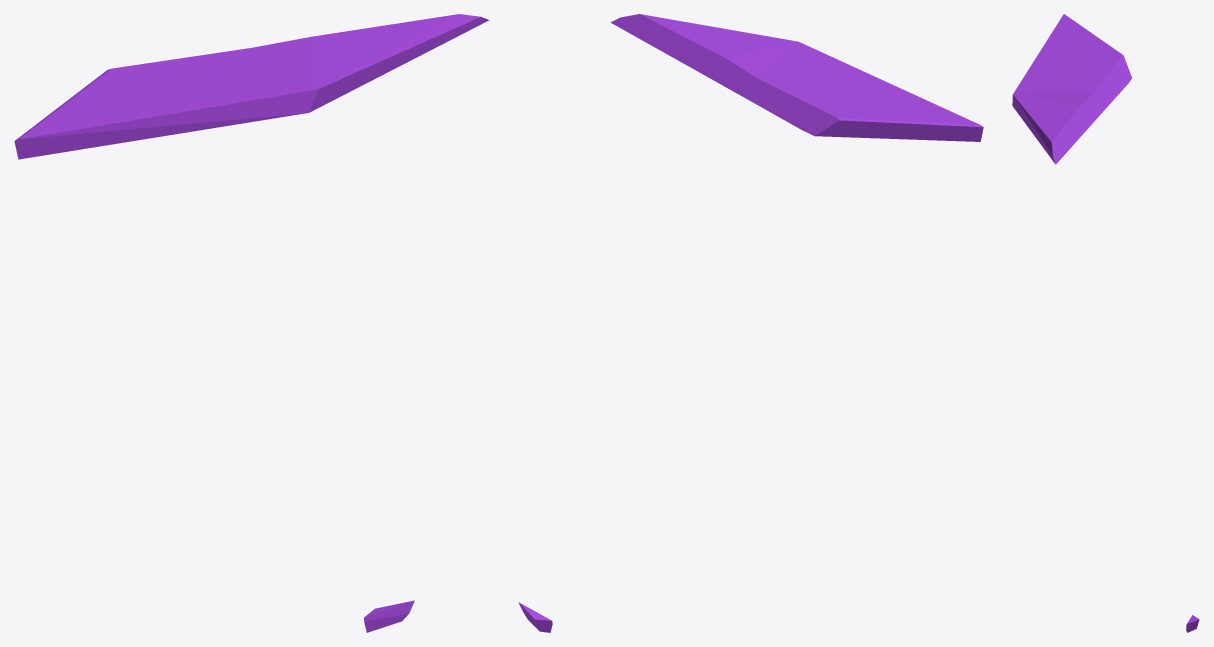
The model's file is Glass_100_1_0_chunks.fbx.
3 renders of one model, left to right at view 1: azimuth 30°, elevation 25°; view 2: azimuth 150°, elevation 25°; view 3: azimuth 270°, elevation 25°, orthographic. The views are drawn at different scales.
Parts seen in each view (by area): view 1: Glass_100_1_0_6, Glass_100_1_0_5, Glass_100_1_0_1, Glass_100_1_0_4, Glass_100_1_0_0, Glass_100_1_0_2; view 2: Glass_100_1_0_4, Glass_100_1_0_6, Glass_100_1_0_5, Glass_100_1_0_2, Glass_100_1_0_1; view 3: Glass_100_1_0_5, Glass_100_1_0_6, Glass_100_1_0_4, Glass_100_1_0_2, Glass_100_1_0_1.
Part boxes in pixels (<box>): Glass_100_1_0_6: <box>14,72,277,159</box>; Glass_100_1_0_5: <box>224,29,371,116</box>; Glass_100_1_0_1: <box>344,19,462,94</box>; Glass_100_1_0_4: <box>64,50,235,102</box>; Glass_100_1_0_0: <box>364,600,414,632</box>; Glass_100_1_0_2: <box>361,14,489,33</box>; Glass_100_1_0_4: <box>749,79,915,139</box>; Glass_100_1_0_6: <box>804,53,983,141</box>; Glass_100_1_0_5: <box>695,34,822,99</box>; Glass_100_1_0_2: <box>610,14,697,69</box>; Glass_100_1_0_1: <box>652,16,755,38</box>; Glass_100_1_0_5: <box>1012,79,1107,128</box>; Glass_100_1_0_6: <box>1020,14,1095,83</box>; Glass_100_1_0_4: <box>1074,36,1131,105</box>; Glass_100_1_0_2: <box>1048,117,1087,164</box>; Glass_100_1_0_1: <box>1020,107,1061,155</box>.
Size of the model in its own units: 1008 by 1370 by 483.
